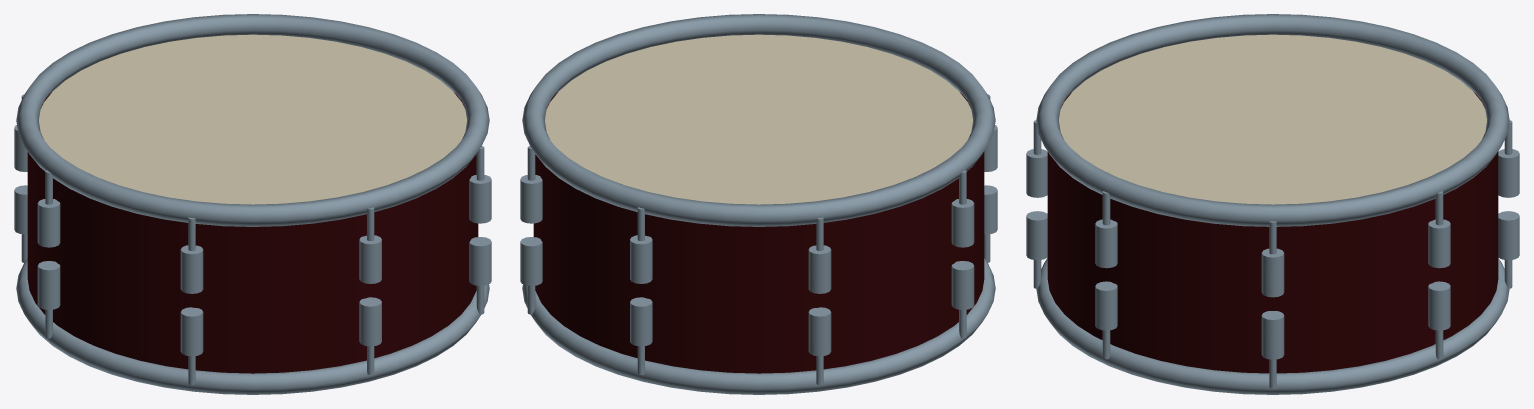
Rendered from Snare.obj.
3 renders of one model, left to right at view 1: azimuth 30°, elevation 25°; view 2: azimuth 150°, elevation 25°; view 3: azimuth 270°, elevation 25°, orthographic.
Visible parts, largest first — view 1: Snare_shell.001; view 2: Snare_shell.001; view 3: Snare_shell.001.
Part boxes in pixels (x1,y1,x2,y2): Snare_shell.001: (14, 14, 491, 394); Snare_shell.001: (520, 14, 997, 394); Snare_shell.001: (1026, 14, 1519, 394).
Bounding box in the file's own units: 0.394 × 0.1636 × 0.394.
